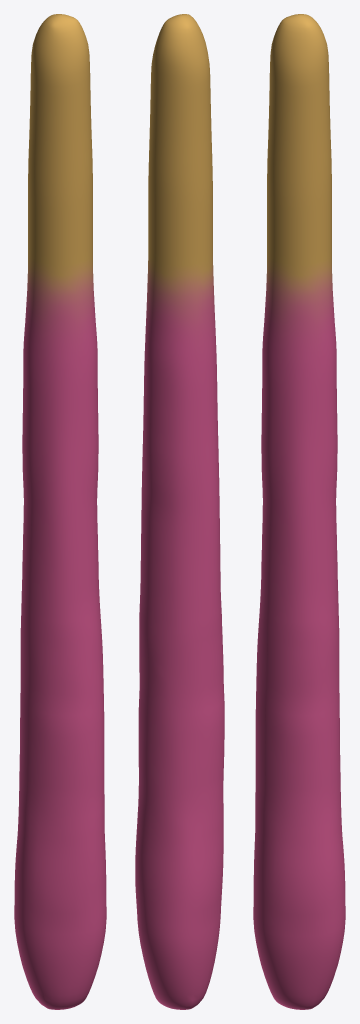
File: Stick.fbx
3 renders of one model, left to right at view 1: azimuth 90°, elevation 25°; view 2: azimuth 150°, elevation 25°; view 3: azimuth 270°, elevation 25°, orthographic.
Parts seen in each view (by area): view 1: Stick; view 2: Stick; view 3: Stick.
Part boxes in pixels (box(x1,y1,x2,y2)): Stick: box(14, 14, 106, 1009); Stick: box(135, 14, 224, 1009); Stick: box(253, 14, 345, 1009).
Bounding box in the file's own units: 0.1755 × 2.23 × 0.1877.
